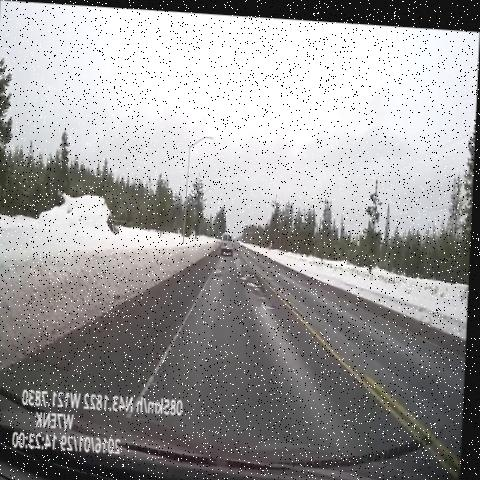pothole: (236, 264, 278, 309), (211, 260, 234, 285), (234, 243, 252, 269)
